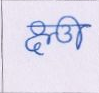i_matra: (60, 15, 84, 49)
